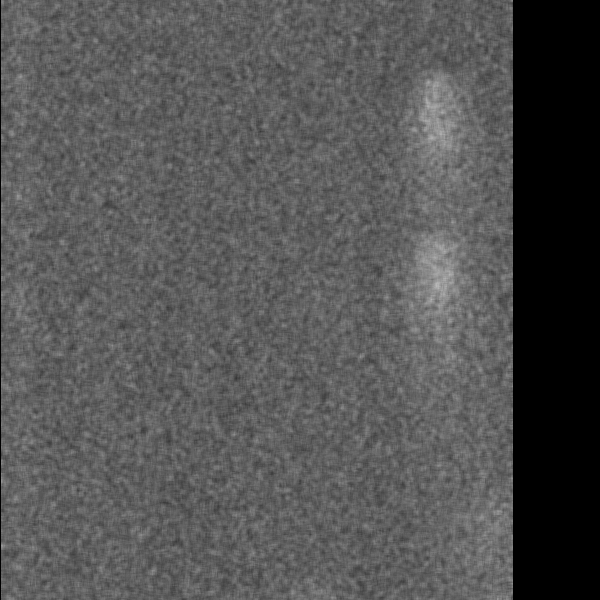spark: (397, 74, 480, 173), (414, 257, 458, 301)
